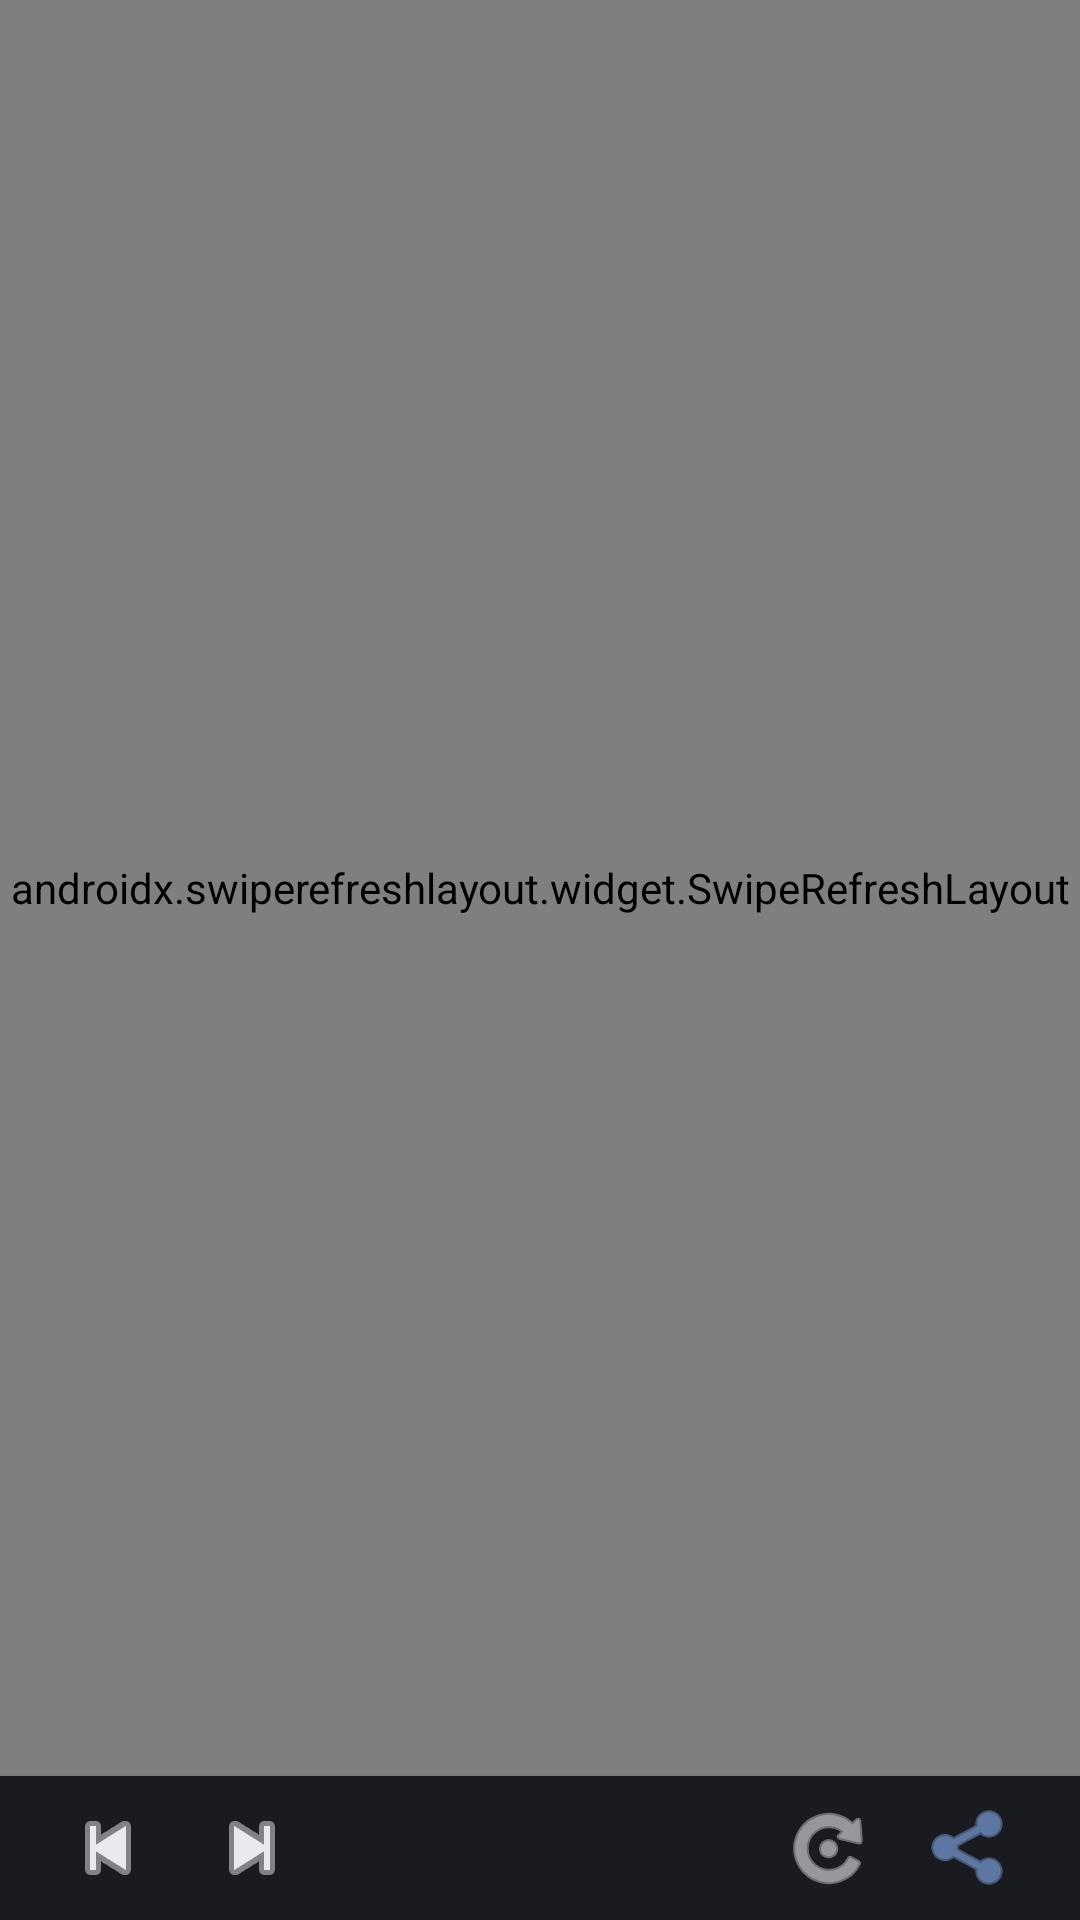

Locate icon controls on the screen. Image size 1080x1920, boxes as (x1, y1, x2, y2).
Back: (85, 1821, 131, 1875)
Forward: (229, 1821, 275, 1875)
